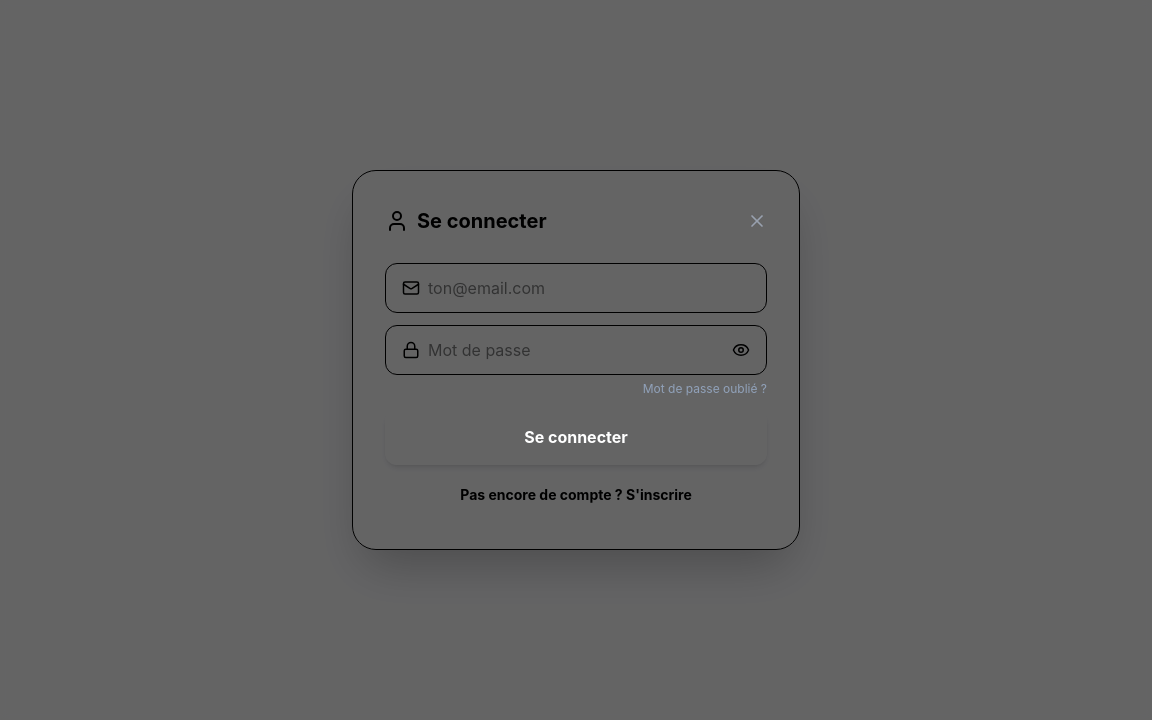
Scenario: AuthModal — bascule entre les modes › "Pas encore de compte ? S'inscrire" passe en mode signup (pseudonyme + confirmation apparaissent)
This screenshot has width=1152, height=720.
Click the button "Pas encore de compte ? S'inscrire" at (576, 495), box x1=385 y1=473 x2=767 y2=517
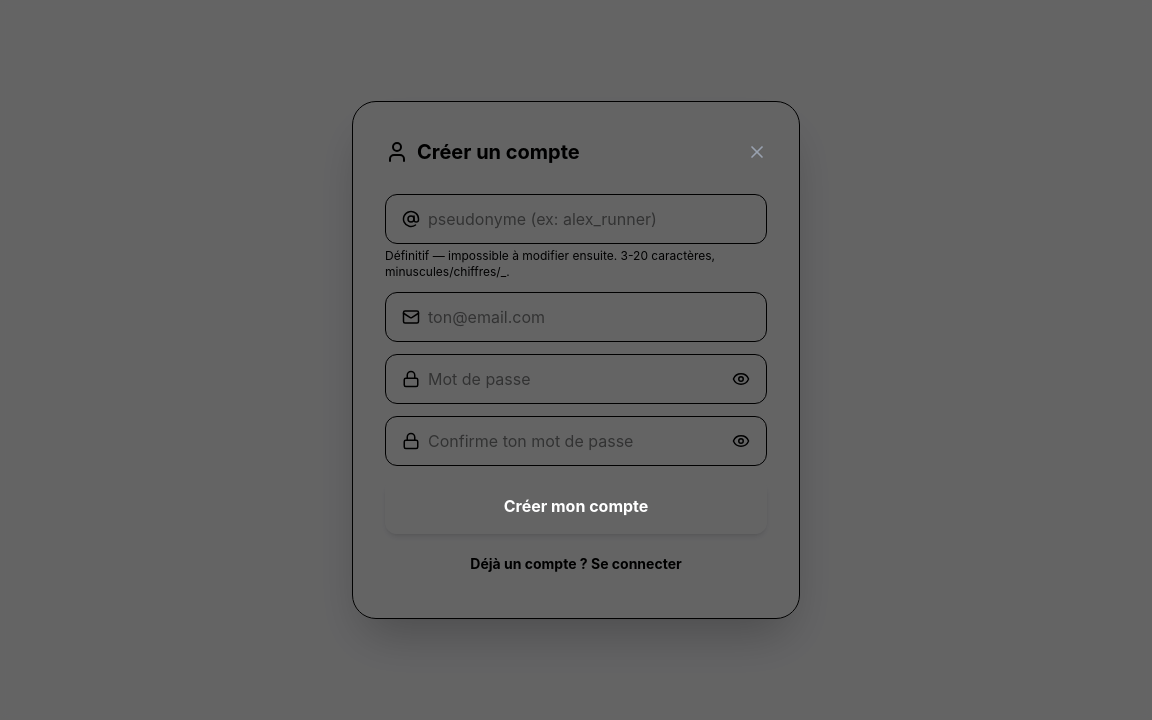
Result: the text "Créer un compte" is shown at x1=417 y1=138 x2=580 y2=166
Result: the field with placeholder "pseudonyme (ex: alex_runner)" is shown at x1=428 y1=207 x2=750 y2=231
Result: the password field with placeholder "Confirme ton mot de passe" is shown at x1=428 y1=429 x2=724 y2=453
